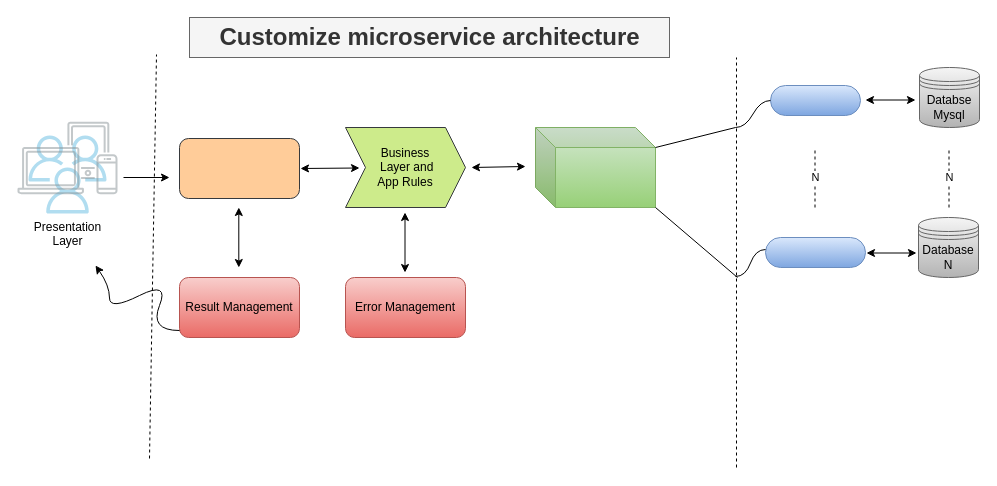
Image size: 997x486. Some labels were removed from this diagram. Each missing label, with the centre of its shape:
Access Layer and Routing: (595,167)
API Request Management: (239,168)
Service 1: (815,100)
Service N: (815,252)
